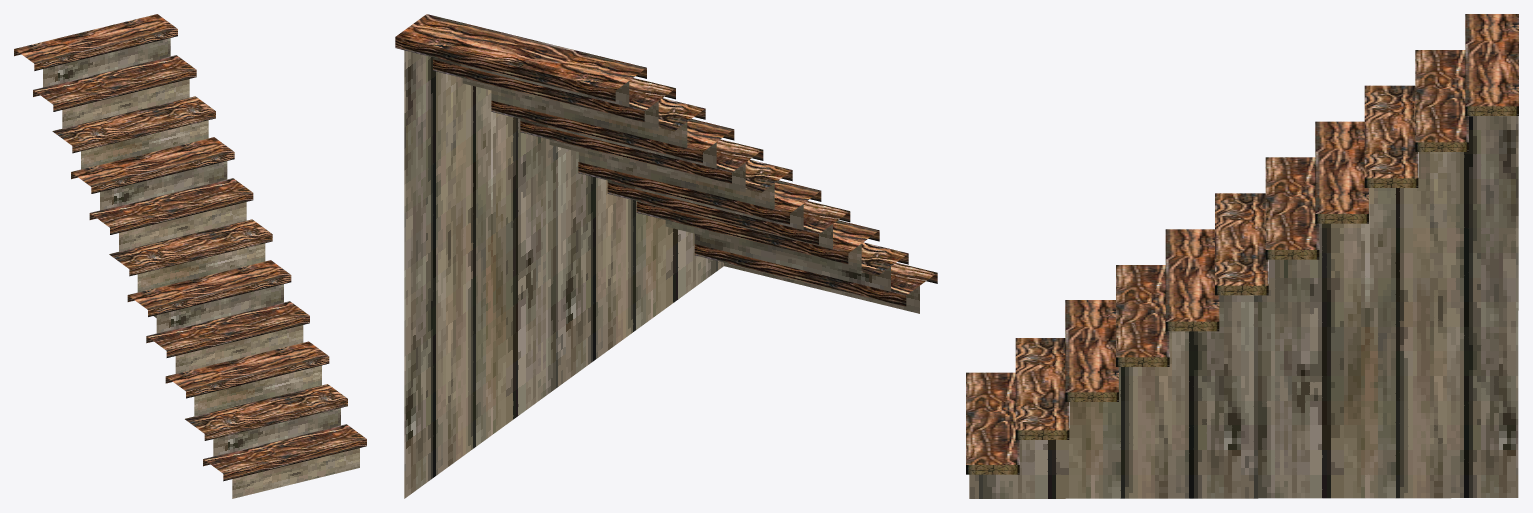
Rendered from LAKETOWN_PUB_PS_PUB_STEP48.fbx.
3 renders of one model, left to right at view 1: azimuth 30°, elevation 25°; view 2: azimuth 150°, elevation 25°; view 3: azimuth 270°, elevation 25°, orthographic. The views are drawn at different scales.
Parts seen in each view (by area): view 1: LAKETOWN_PUB_PS_PUB_STEP48; view 2: LAKETOWN_PUB_PS_PUB_STEP48; view 3: LAKETOWN_PUB_PS_PUB_STEP48.
Boxes of the visible parts, x1,y1,x2,y2 form: LAKETOWN_PUB_PS_PUB_STEP48: [14, 14, 366, 498]; LAKETOWN_PUB_PS_PUB_STEP48: [395, 14, 937, 498]; LAKETOWN_PUB_PS_PUB_STEP48: [966, 14, 1518, 498].
Bounding box in the file's own units: 14662 × 29321 × 37073.
3 materials, 3 textured.
